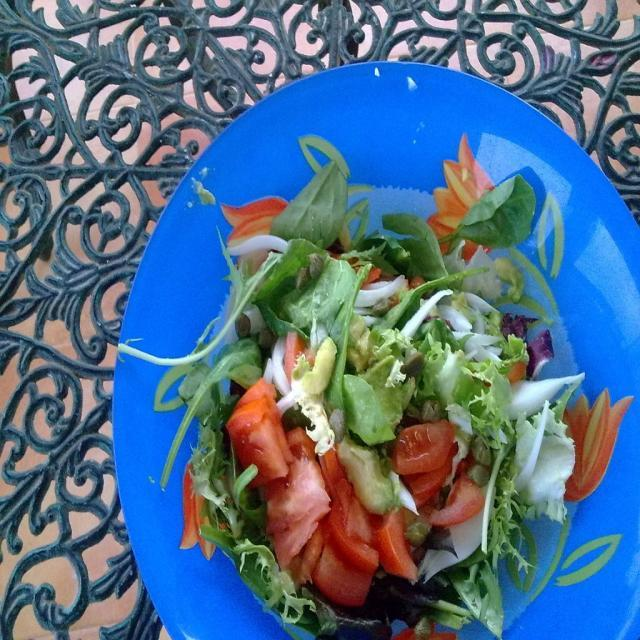Salad: (118, 131, 586, 640)
